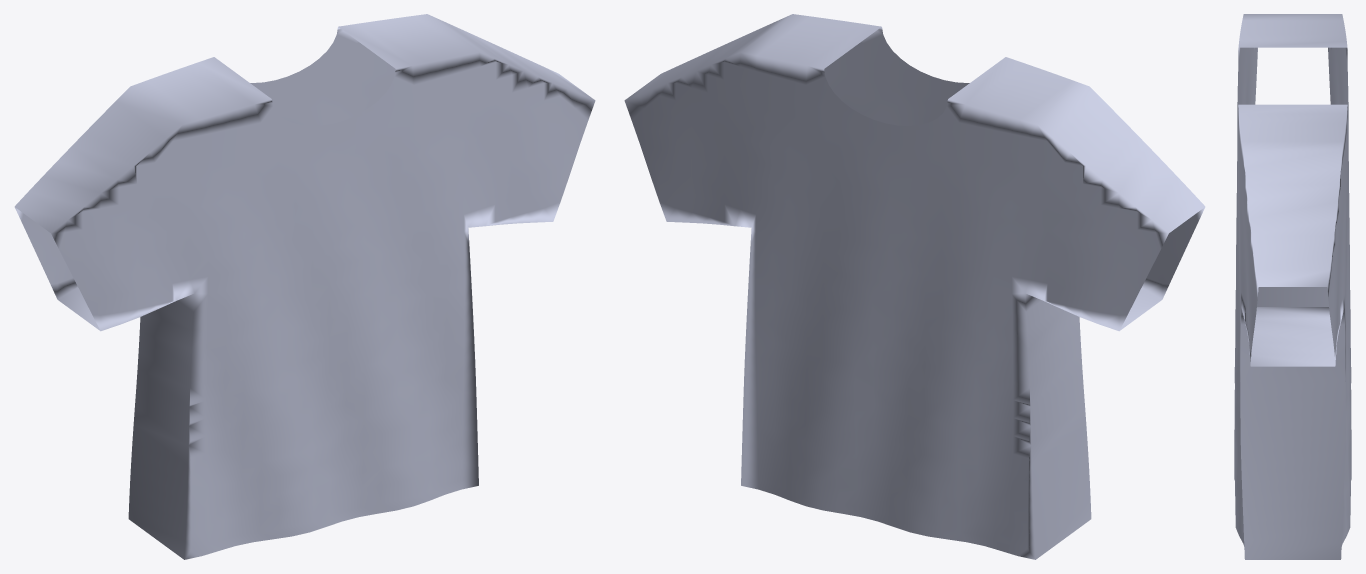
The model's file is demo-tshirt.glb.
The picture shows the model from 3 angles, left to right: view 1: azimuth 30°, elevation 25°; view 2: azimuth 150°, elevation 25°; view 3: azimuth 270°, elevation 25°; orthographic projection. The views are drawn at different scales.
Visible parts, largest first — view 1: Demo relaxed T-shirt; view 2: Demo relaxed T-shirt; view 3: Demo relaxed T-shirt.
Part boxes in pixels (left/top/right/bottom): Demo relaxed T-shirt: left=14, top=14, right=595, bottom=559; Demo relaxed T-shirt: left=624, top=14, right=1205, bottom=559; Demo relaxed T-shirt: left=1234, top=14, right=1351, bottom=559.
Bounding box in the file's own units: 1.76 × 1.36 × 0.3482.
